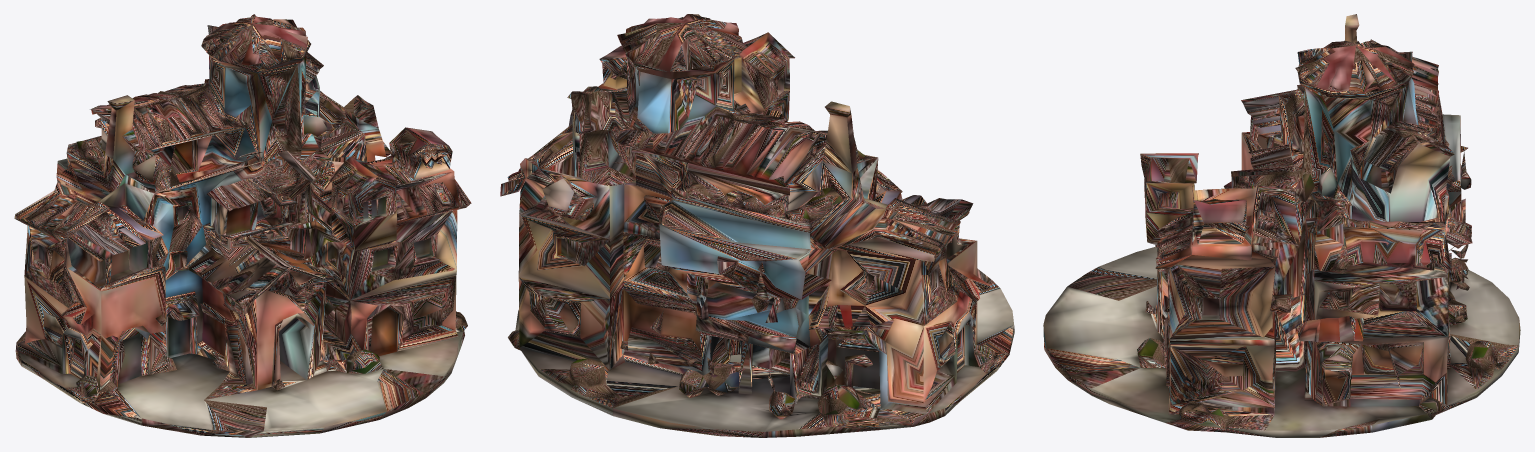
The model's file is Colorful_Courtyard_Vi.glb.
The picture shows the model from 3 angles, left to right: view 1: azimuth 30°, elevation 25°; view 2: azimuth 150°, elevation 25°; view 3: azimuth 270°, elevation 25°; orthographic projection. The views are drawn at different scales.
Parts seen in each view (by area): view 1: Colorful_Courtyard_Vi; view 2: Colorful_Courtyard_Vi; view 3: Colorful_Courtyard_Vi.
Boxes of the visible parts, x1,y1,x2,y2 form: Colorful_Courtyard_Vi: [14, 14, 471, 437]; Colorful_Courtyard_Vi: [500, 14, 1014, 437]; Colorful_Courtyard_Vi: [1043, 14, 1520, 437].
Size of the model in its own units: 1.99 by 1.45 by 1.99.
1 material, 1 textured.
